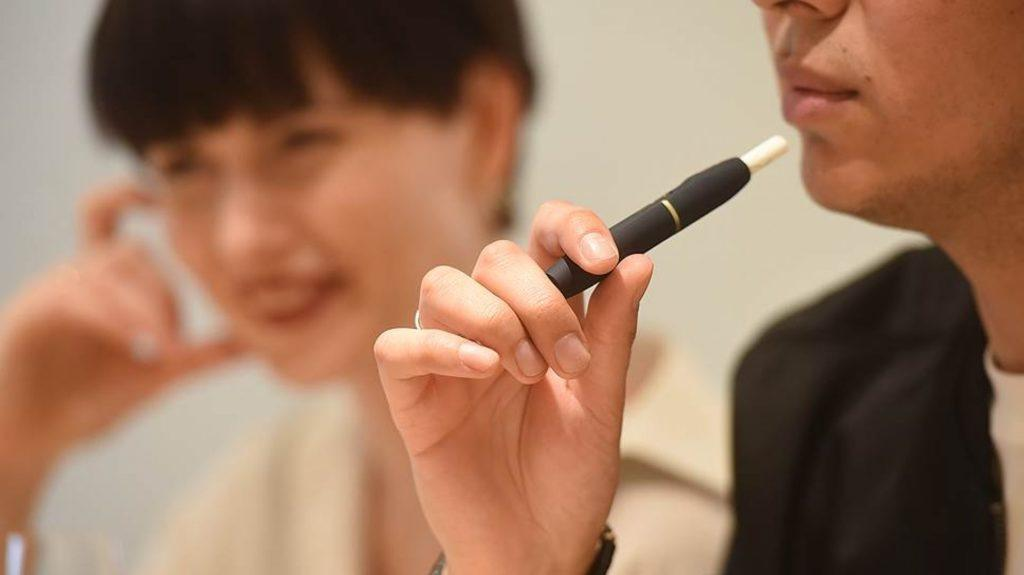iqos: (544, 133, 788, 298)
